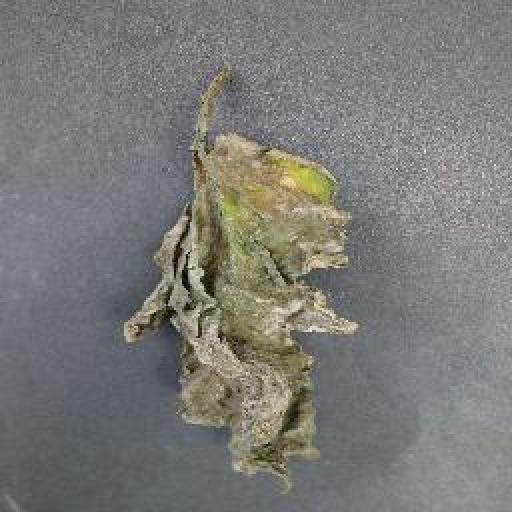disease_tomato: (124, 128, 354, 490)
